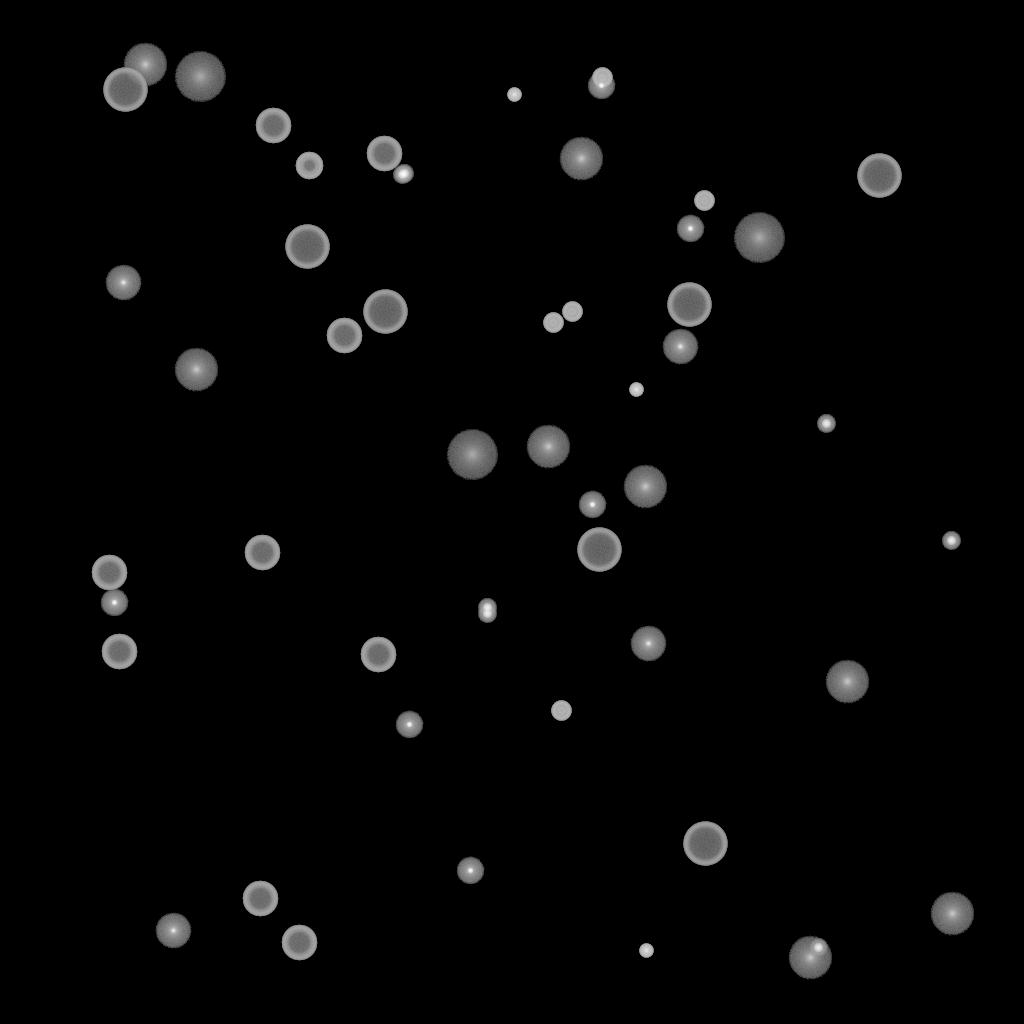depth:-10: (456, 857, 484, 885), (395, 711, 423, 739), (676, 215, 704, 243), (587, 72, 615, 100), (578, 491, 606, 519), (100, 589, 128, 617)
depth:-20: (942, 532, 960, 550), (395, 165, 413, 183), (817, 415, 835, 433), (478, 599, 496, 617), (393, 166, 411, 184), (478, 605, 496, 623), (809, 939, 827, 957)
depth:-30: (629, 383, 643, 397), (639, 944, 653, 958), (507, 88, 521, 102)
depth:-40: (551, 701, 571, 721), (592, 68, 612, 88), (694, 191, 714, 211), (562, 302, 582, 322), (543, 313, 563, 333)
depth:-50: (295, 152, 323, 180)
depth:-60: (360, 637, 396, 673), (326, 318, 362, 354), (91, 555, 127, 591), (366, 136, 402, 172), (242, 881, 278, 917), (244, 535, 280, 571), (255, 108, 291, 144), (281, 925, 317, 961), (101, 634, 137, 670)
depth:-70: (857, 154, 901, 198), (285, 225, 329, 269), (683, 822, 727, 866), (667, 283, 711, 327), (363, 290, 407, 334), (103, 68, 147, 112), (577, 528, 621, 572)
depth:0: (105, 265, 141, 301), (630, 626, 666, 662), (662, 329, 698, 365), (155, 913, 191, 949)
depth:10: (930, 892, 974, 936), (174, 348, 218, 392), (526, 425, 570, 469), (825, 660, 869, 704), (623, 465, 667, 509), (788, 936, 832, 980), (123, 43, 167, 87), (559, 137, 603, 181)
depth:20: (446, 430, 498, 480), (174, 52, 226, 102), (733, 213, 785, 263)
